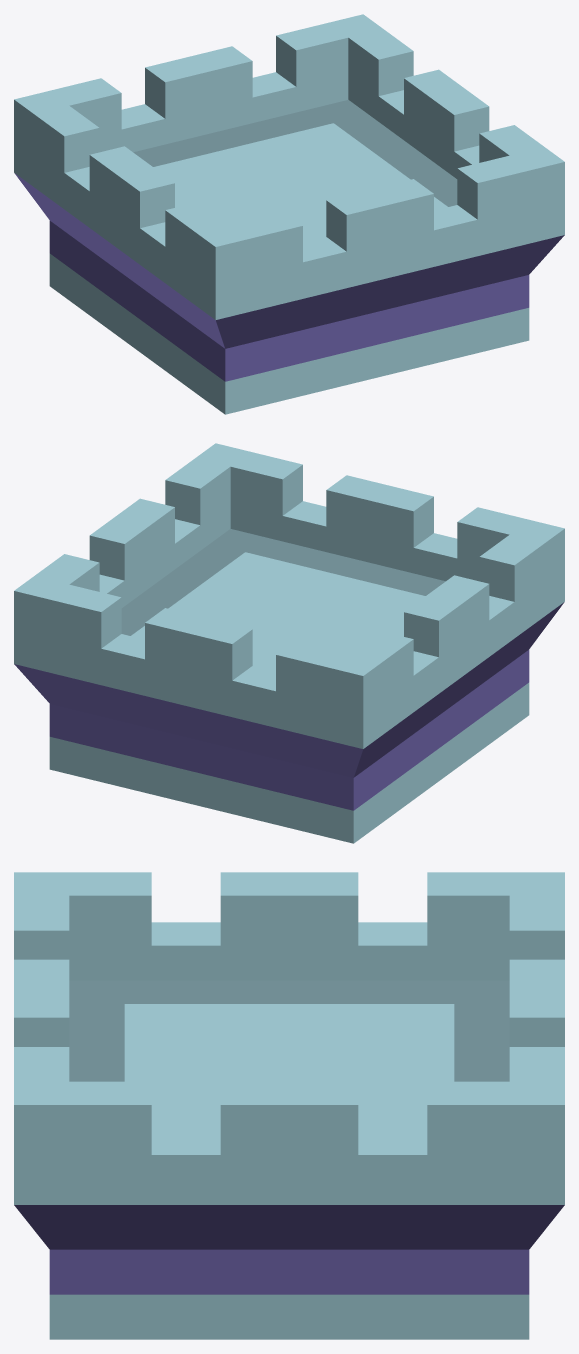
The model's file is towersquare_topa.fbx.
The picture shows the model from 3 angles, top to bottom: view 1: azimuth 30°, elevation 25°; view 2: azimuth 150°, elevation 25°; view 3: azimuth 270°, elevation 25°; orthographic projection. The views are drawn at different scales.
Visible parts, largest first — view 1: towerSquare_topA; view 2: towerSquare_topA; view 3: towerSquare_topA.
Part boxes in pixels (bbox=[...]): towerSquare_topA: bbox=[14, 14, 564, 414]; towerSquare_topA: bbox=[14, 443, 564, 843]; towerSquare_topA: bbox=[14, 872, 564, 1339].
Size of the model in its own units: 10 by 5 by 10.
